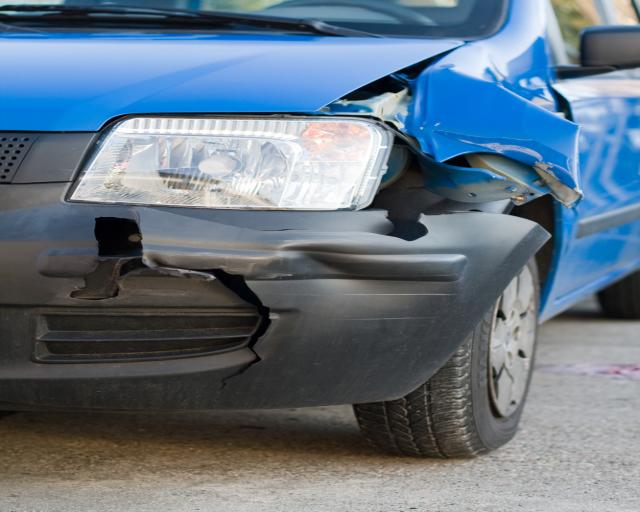crack: (68, 215, 277, 393), (253, 212, 432, 243)
dent: (428, 70, 583, 173), (280, 242, 436, 307)
